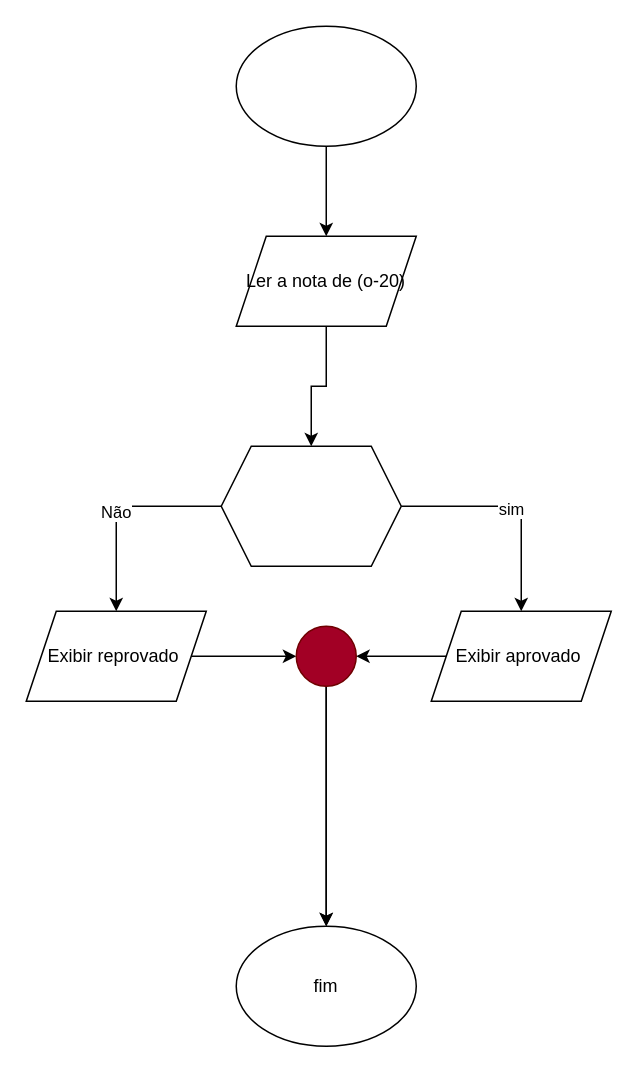
This 638x1073 diagram has some shape labels left out. The centre of each missing label's shape, as x and y in pixels:
Inicio: the point at 325,85
Nota = 9,5: the point at 310,505
